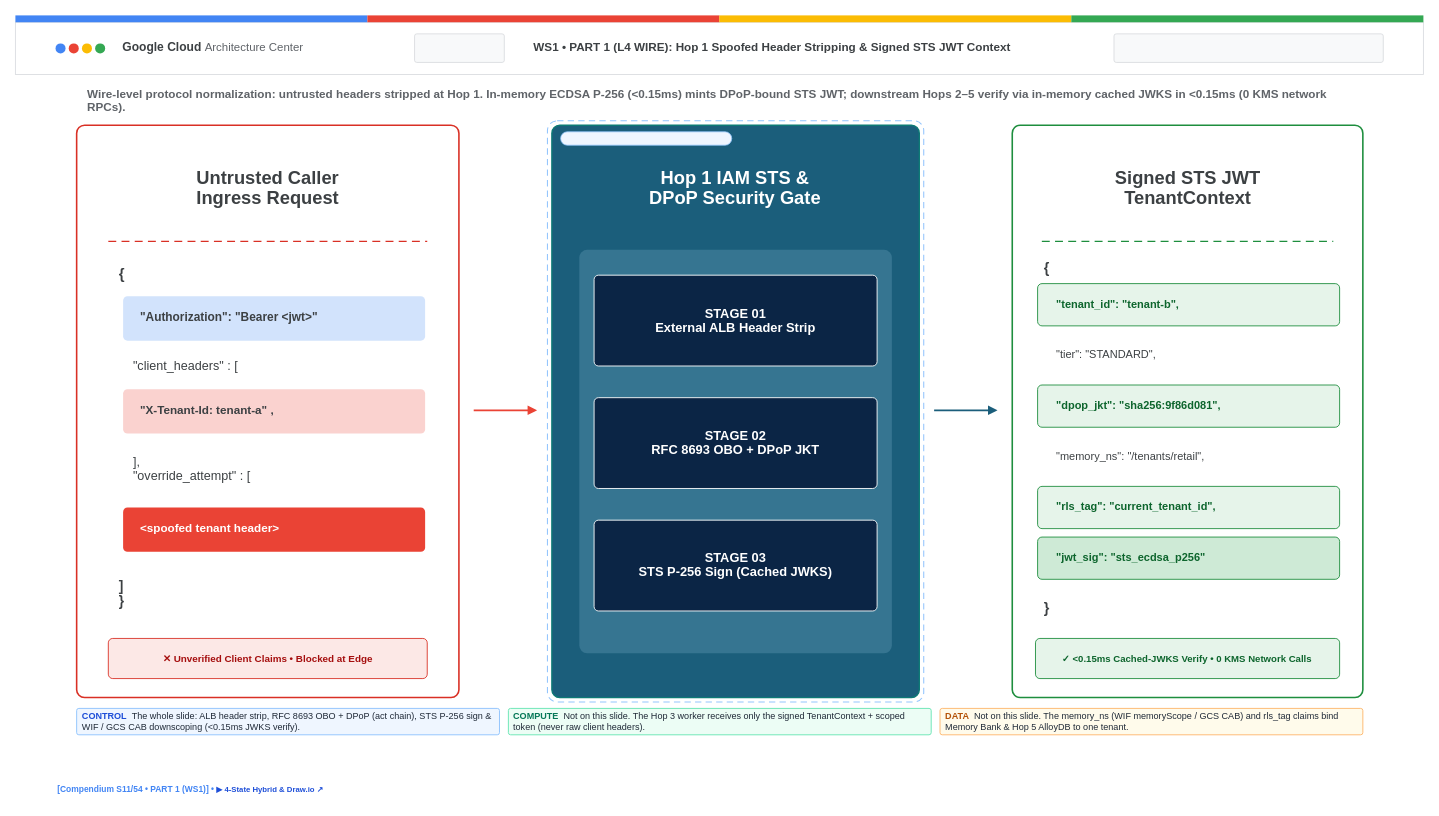
Image size: 1439x816. Some labels were removed from this diagram. Each missing label, with the centre of its shape:
"CONTROL · Hop 1 gate, all 3 stages" belongs at pixel 646 138.
"PAYLOAD-TRANSFORMATION" belongs at pixel 1248 47.
"WS1" belongs at pixel 459 47.
